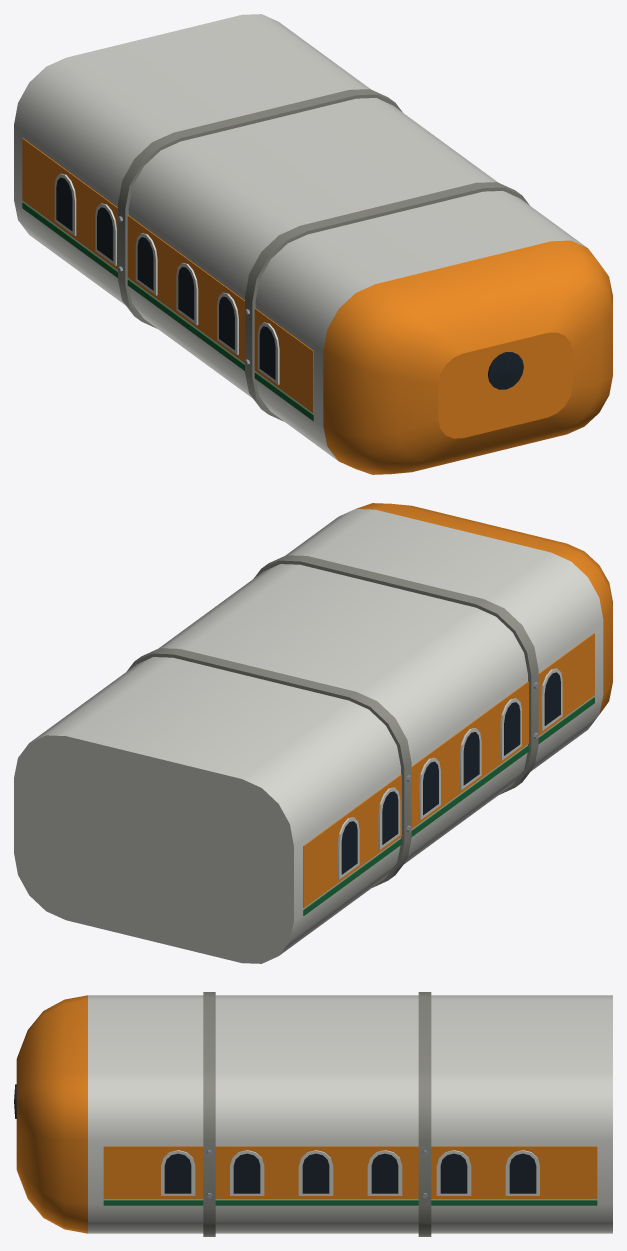
File: refuge100_hull.obj
3 renders of one model, top to bottom at view 1: azimuth 30°, elevation 25°; view 2: azimuth 150°, elevation 25°; view 3: azimuth 270°, elevation 25°, orthographic. The views are drawn at different scales.
Parts seen in each view (by area): view 1: refuge100_hull; view 2: refuge100_hull; view 3: refuge100_hull.
Part boxes in pixels (x1,y1,x2,y2): refuge100_hull: [14, 14, 612, 474]; refuge100_hull: [14, 503, 612, 963]; refuge100_hull: [14, 992, 612, 1236].
Size of the model in its own units: 3.64 by 2.28 by 7.64.
